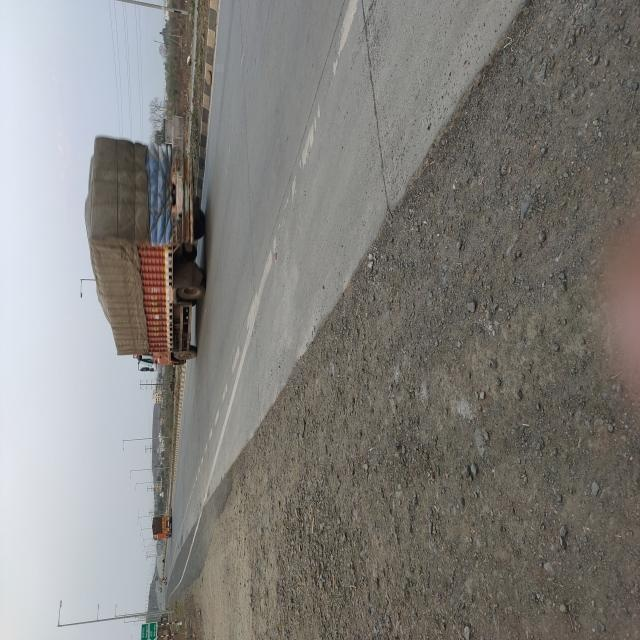Truck: (75, 130, 215, 377)
